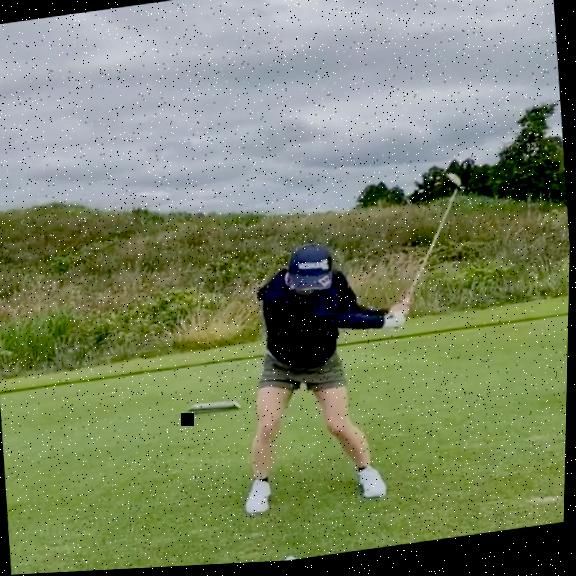ClubHead: (447, 176, 464, 193)
GolfBall: (287, 558, 300, 564)
